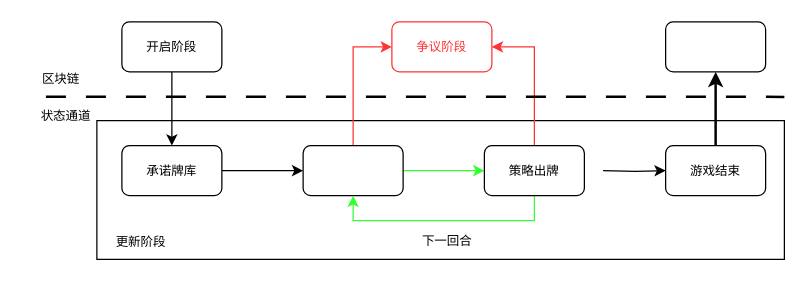
The diagram is 808 pixels wide and 283 high, and some of its shapes have lost their labels. Here are the shapes that lost their labels. From the top down, the centre of each, then its label:
At (x=715, y=46): "关闭阶段".
At (x=352, y=170): "随机抽牌".
